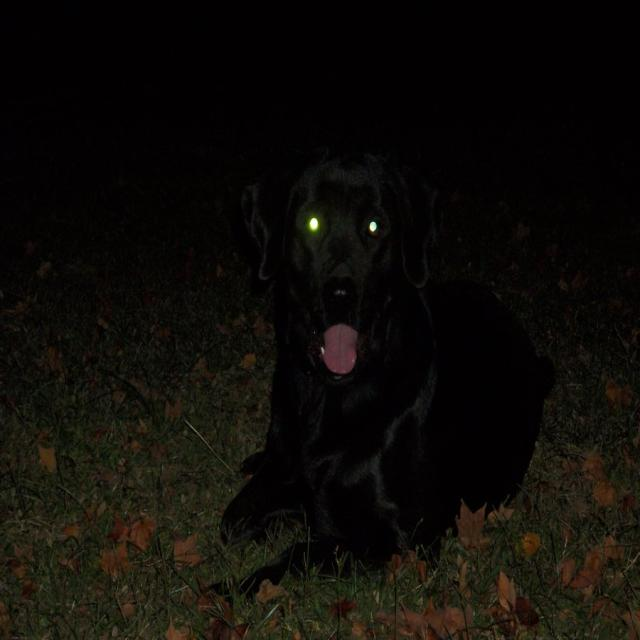Dog: (193, 164, 589, 558)
